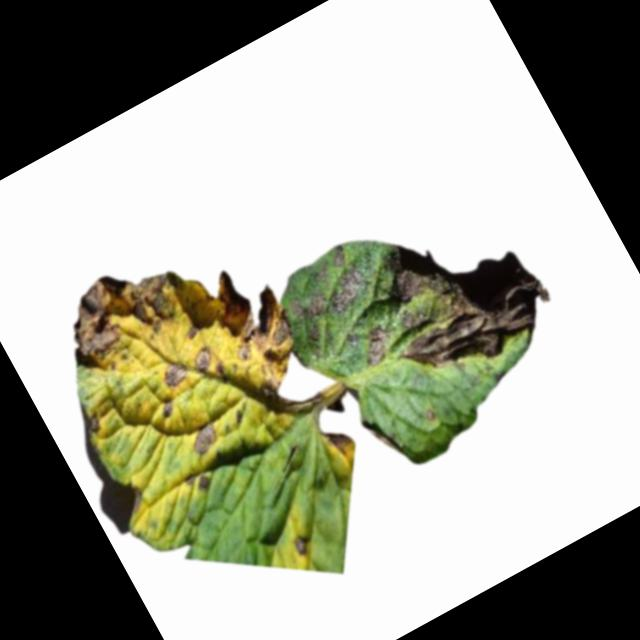Early_blight: (354, 192, 563, 397), (45, 243, 202, 378), (199, 252, 310, 386), (273, 241, 383, 347), (247, 358, 329, 437), (350, 316, 406, 371), (182, 419, 225, 461), (157, 359, 192, 394), (75, 410, 106, 442), (191, 346, 221, 379), (288, 530, 316, 558), (156, 396, 182, 423)
